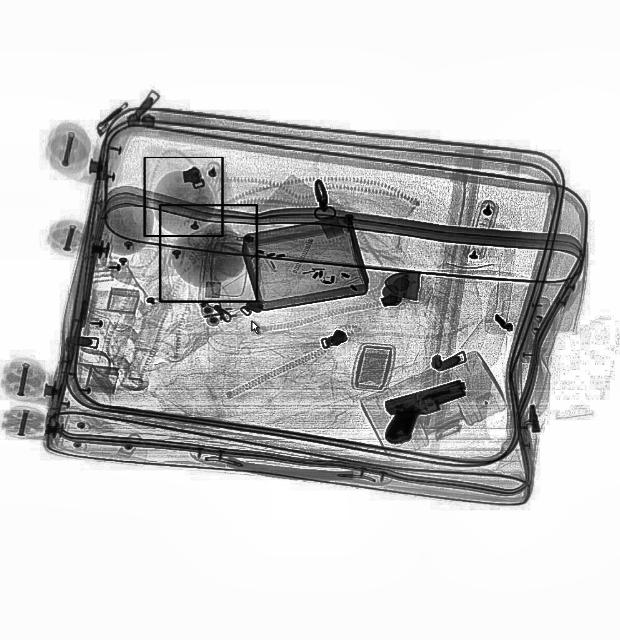Gun: (374, 377, 474, 445)
